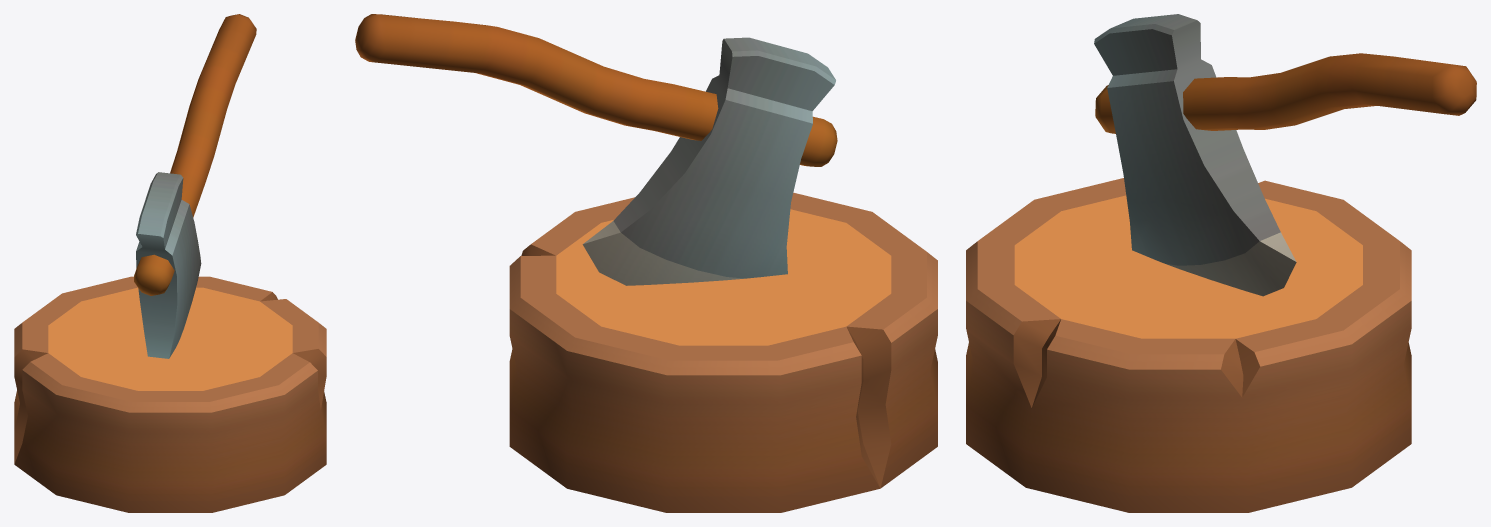
The model's file is decorSmall-forest-67.glb.
The picture shows the model from 3 angles, left to right: view 1: azimuth 30°, elevation 25°; view 2: azimuth 150°, elevation 25°; view 3: azimuth 270°, elevation 25°; orthographic projection. The views are drawn at different scales.
Visible parts, largest first — view 1: piece; view 2: piece; view 3: piece.
Part boxes in pixels (x1,y1,x2,y2): piece: [14, 14, 326, 512]; piece: [355, 14, 937, 512]; piece: [966, 14, 1476, 512].
Bounding box in the file's own units: 1.15 × 1.15 × 1.15.
Materials: 1 (1 with a texture image).
